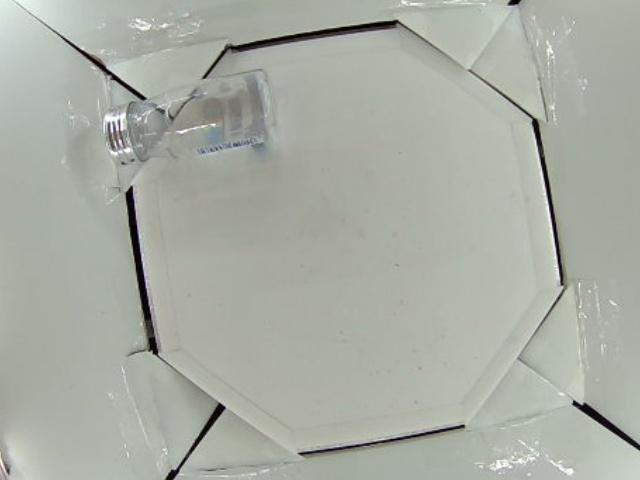Bottle: (101, 71, 279, 165)
